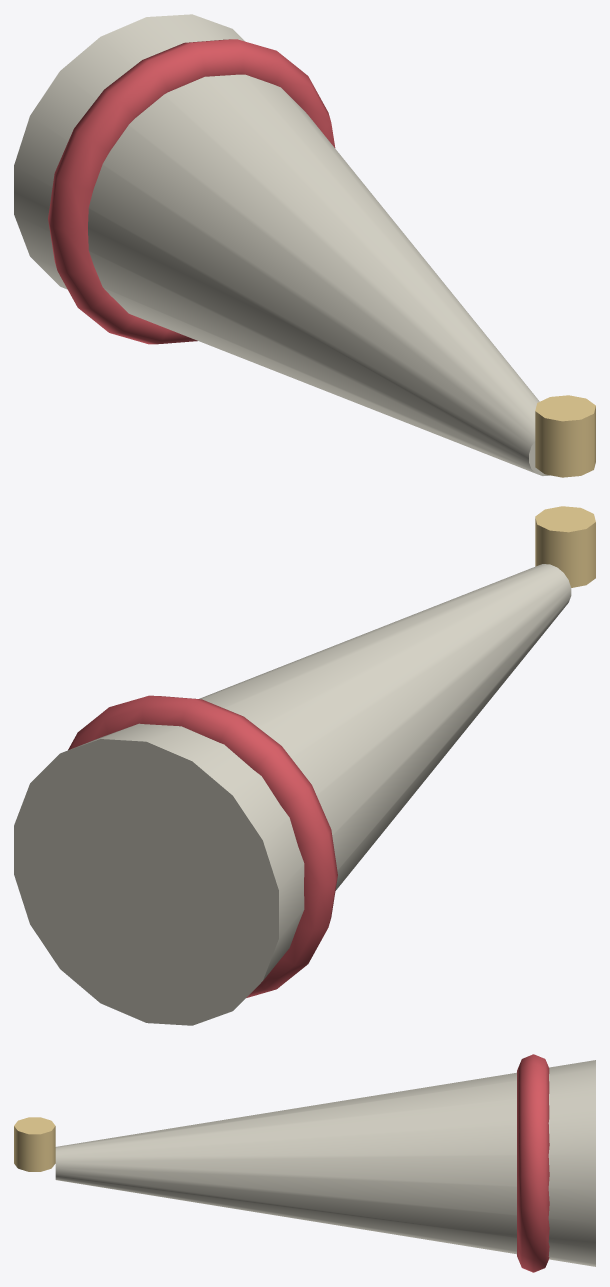
The model's file is chocolate-making-and-confectionery-chocolate-piping-ba-43c8b8f5__39176.glb.
3 renders of one model, top to bottom at view 1: azimuth 30°, elevation 25°; view 2: azimuth 150°, elevation 25°; view 3: azimuth 270°, elevation 25°, orthographic. The views are drawn at different scales.
Visible parts, largest first — view 1: chocolate-piping-bag; view 2: chocolate-piping-bag; view 3: chocolate-piping-bag.
Boxes of the visible parts, box(x1,y1,x2,y2) form: chocolate-piping-bag: box(14, 14, 595, 477); chocolate-piping-bag: box(14, 506, 595, 1025); chocolate-piping-bag: box(14, 1054, 595, 1272).
Size of the model in its own units: 0.106 by 0.106 by 0.28.
